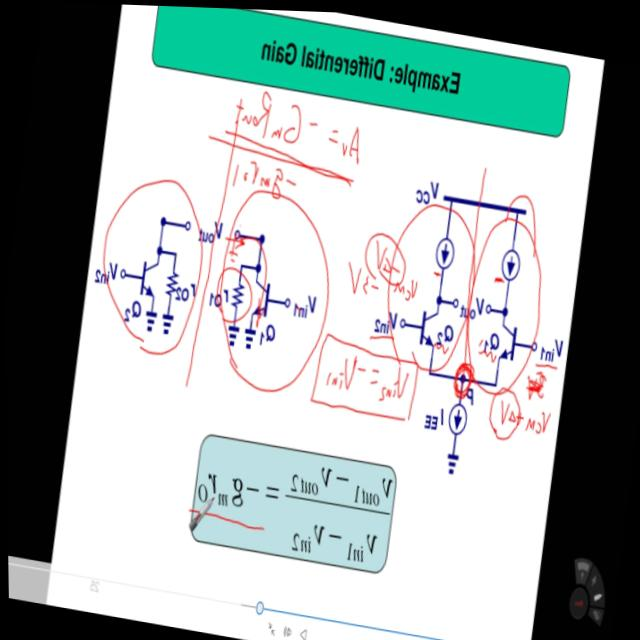panseo: (201, 72, 383, 223), (297, 329, 427, 436), (333, 212, 432, 322), (478, 378, 556, 457)
